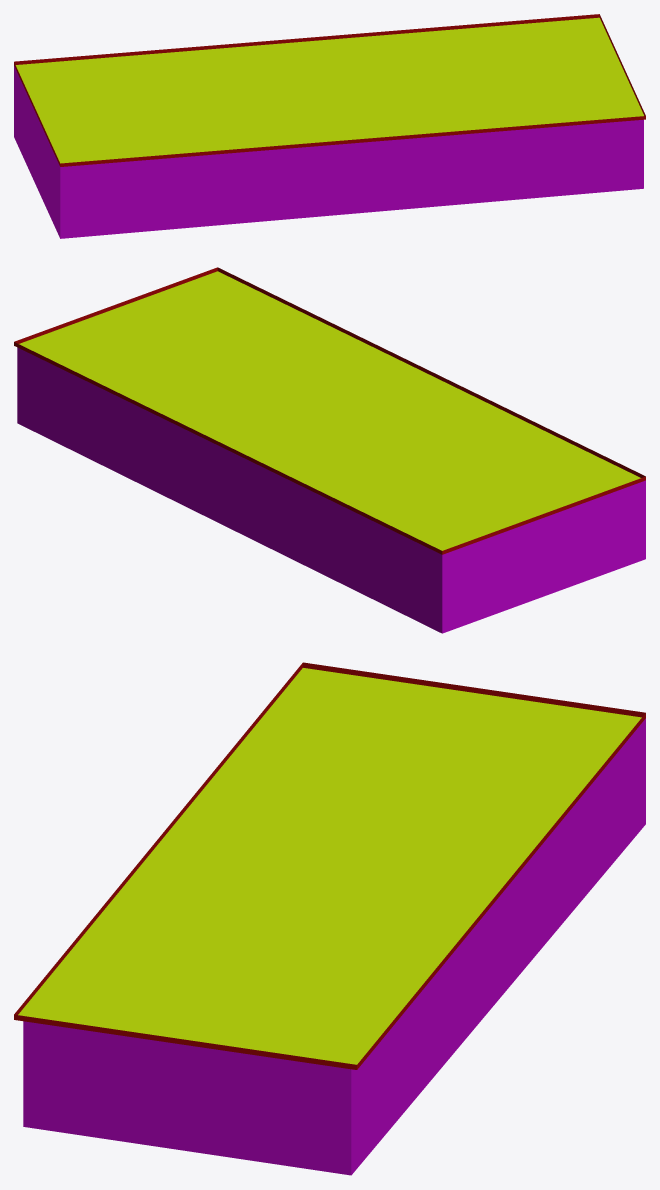
Rendered from bgj_78.glb.
3 views of the same model, one above another, from view 1: azimuth 30°, elevation 25°; view 2: azimuth 150°, elevation 25°; view 3: azimuth 270°, elevation 25° (orthographic). The views are drawn at different scales.
Visible parts, largest first — view 1: bgj_78; view 2: bgj_78; view 3: bgj_78.
Boxes of the visible parts, bbox=[...] form: bgj_78: bbox=[14, 14, 645, 238]; bgj_78: bbox=[14, 267, 645, 633]; bgj_78: bbox=[14, 662, 645, 1175].
Size of the model in its own units: 56.68 by 7.32 by 37.62.
